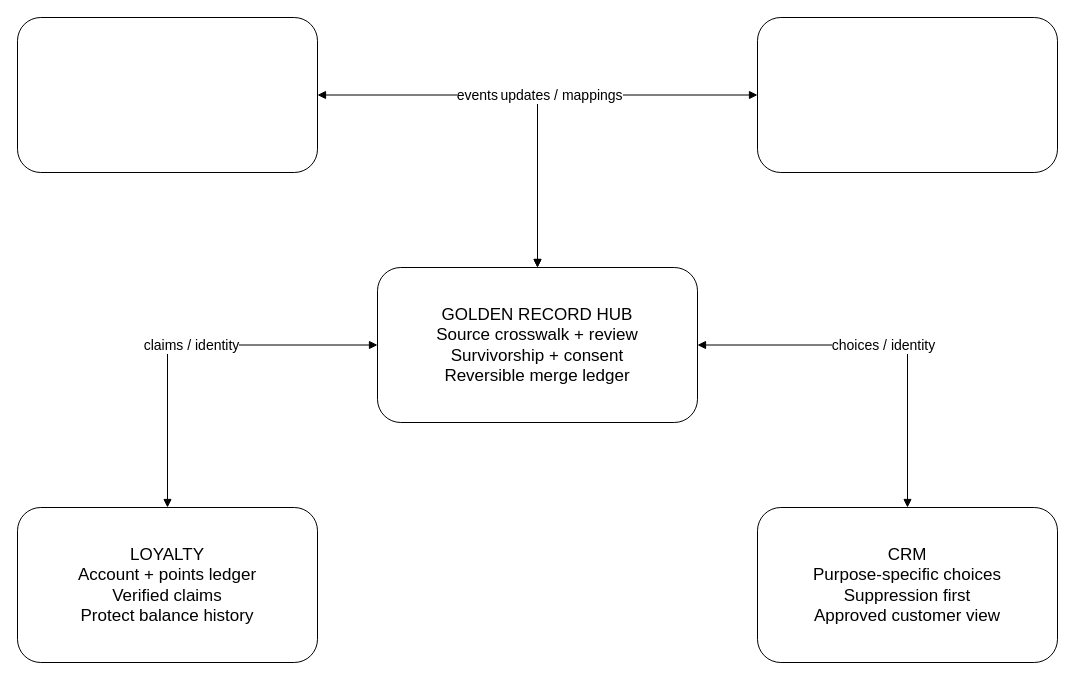
Image size: 1075x680. Some labels were removed from this diagram. The box of each missing label's shape, as (x1, y1, x2, y2) in pixels:
E-COMMERCE Verified contact update Checkout identity Apply mapping version: (756, 16, 1058, 172)
STORE POS Offline provisional ID Durable outbox Apply mapping version: (16, 16, 318, 172)
